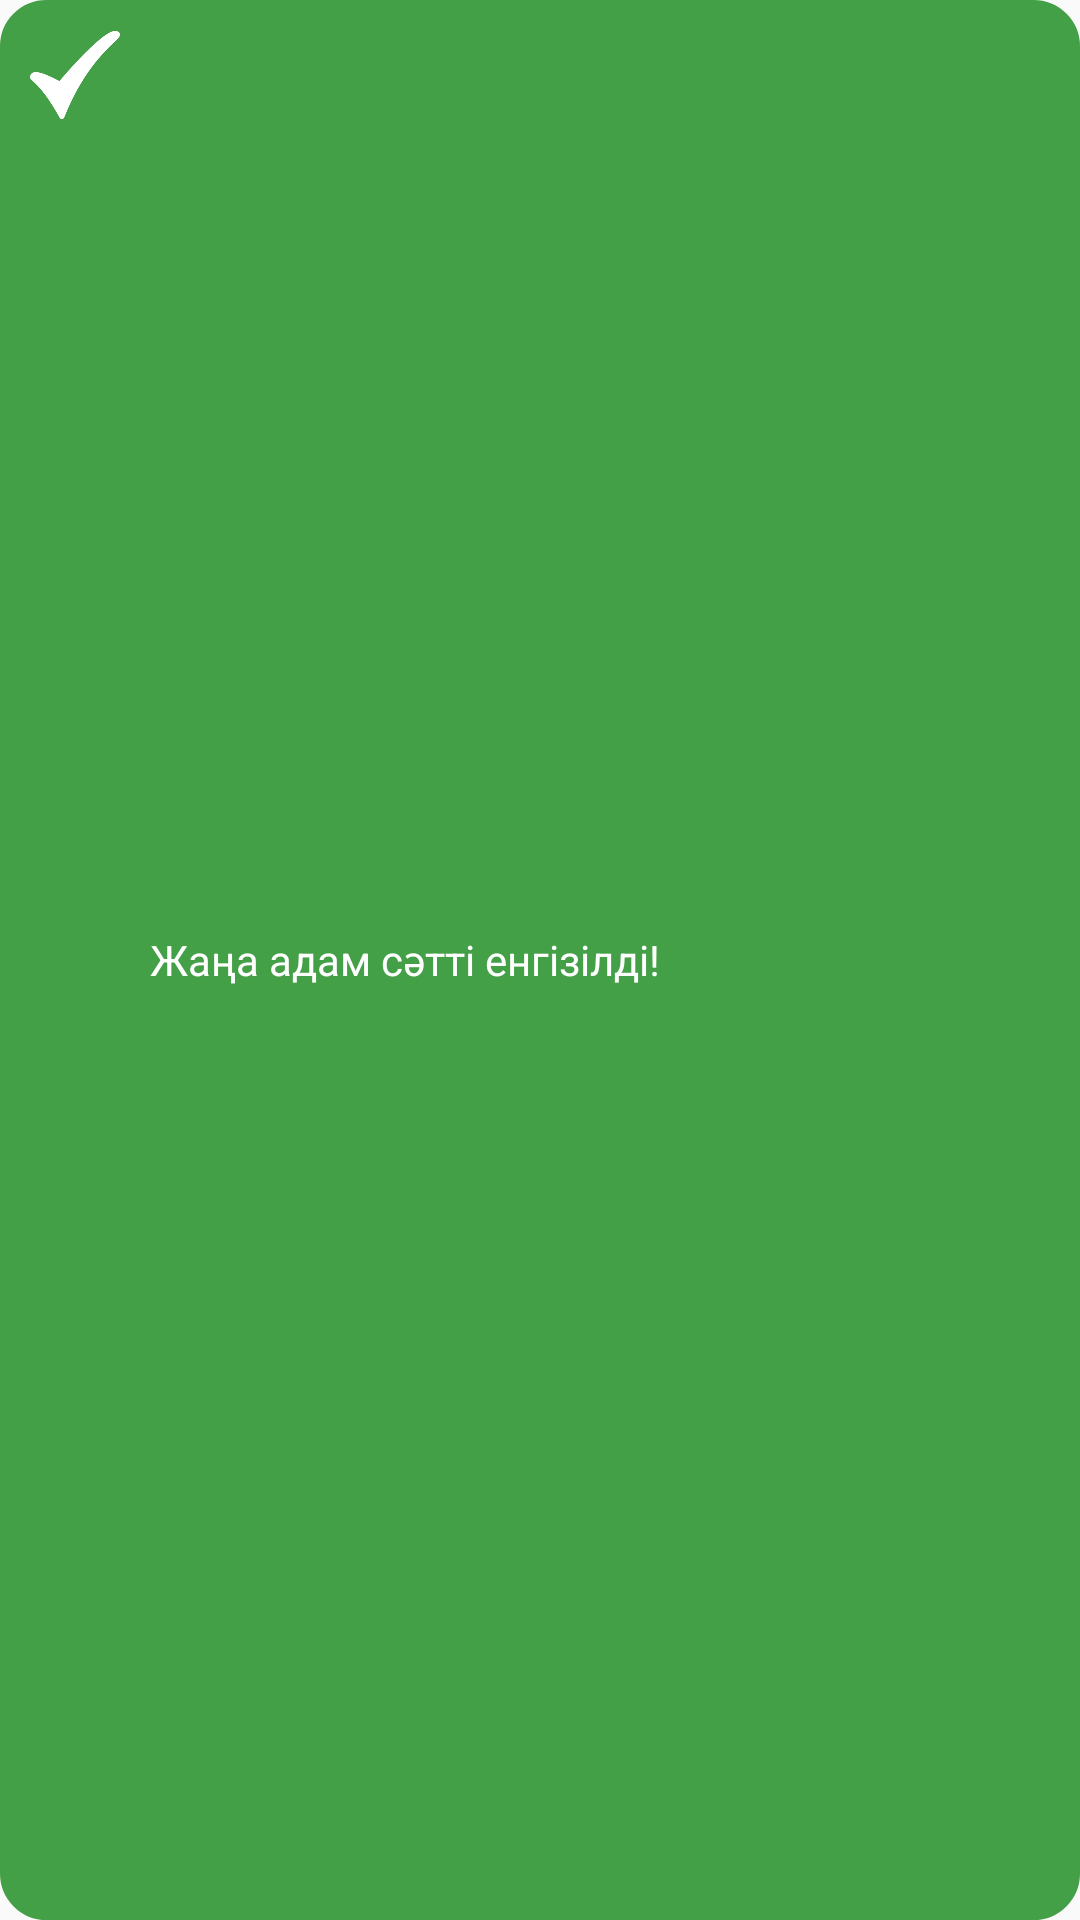

Where to tap for icons on this 1080 × 1920 app screen, as (x=x, y=y):
success: (x=75, y=75)
